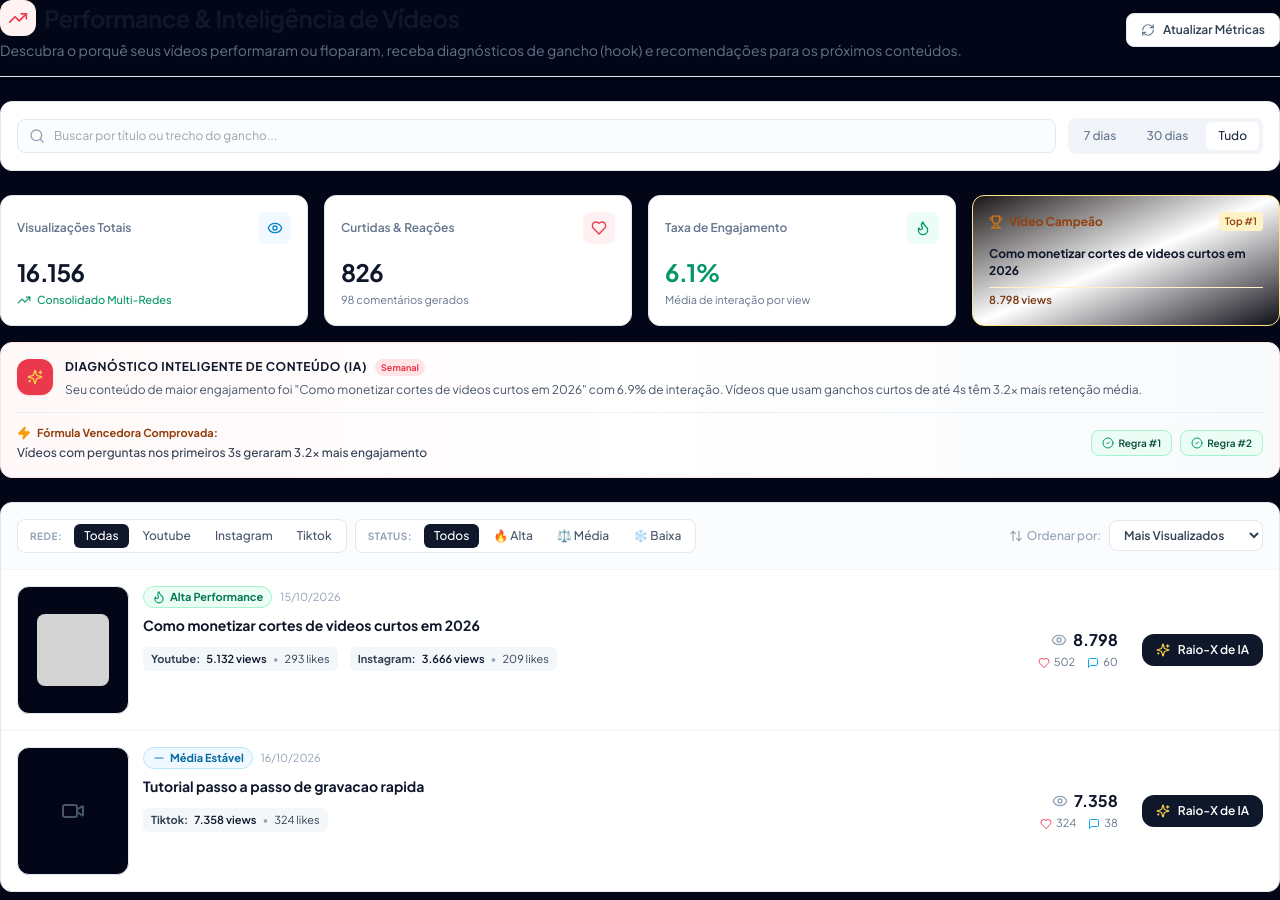
Test: AnalyticsDashboard Component › opens the AI intelligence drawer with hook diagnosis and next recommendations
This screenshot has width=1280, height=900.
# Clica no botao de Raio-X de IA do primeiro video
Click the button with test id "btn-open-diagnosis-1" at (1202, 650), box top-left (1142, 634), bottom-right (1263, 666)
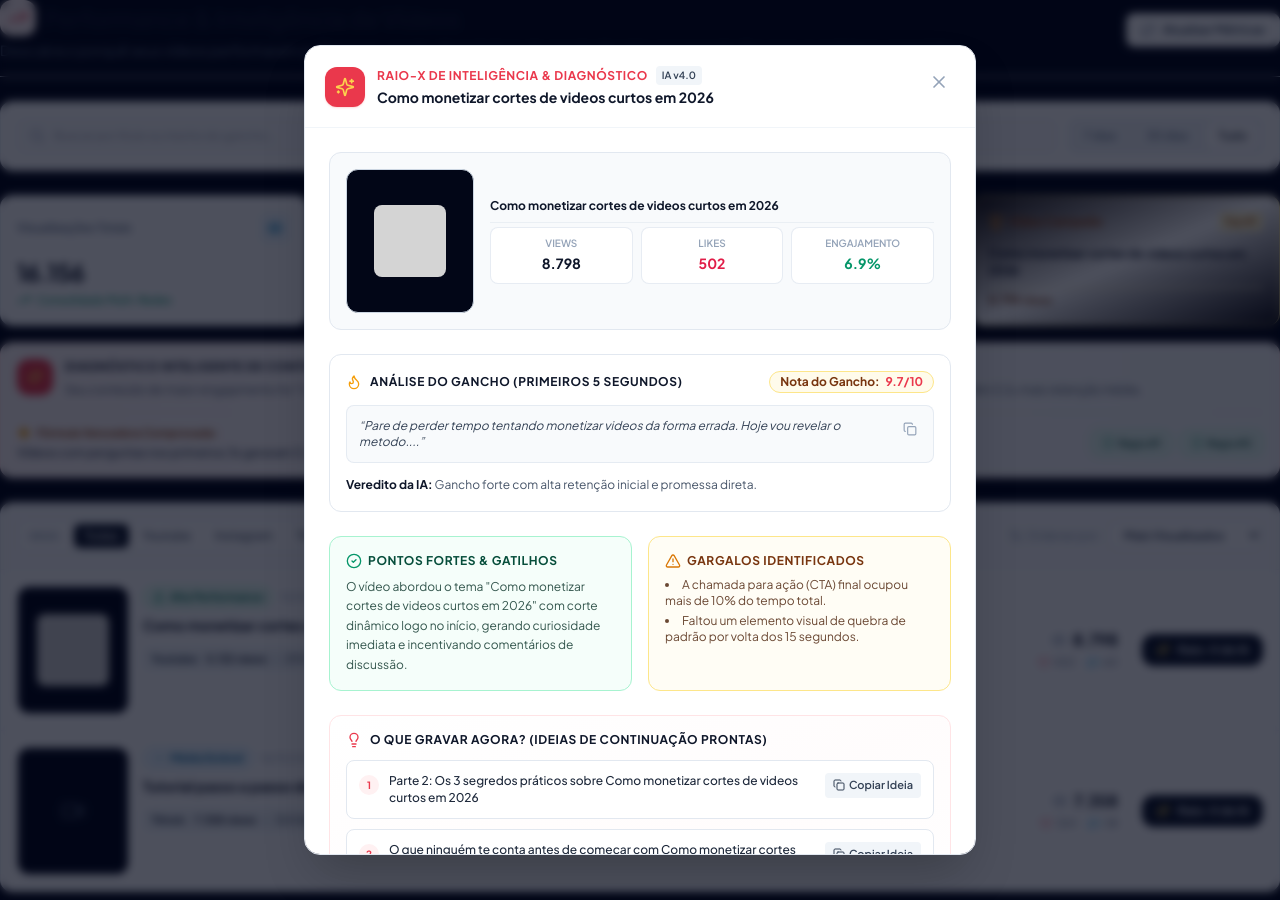
Expected: the element with test id "video-intelligence-drawer" is shown, top-left (304, 45), bottom-right (976, 855)
Expected: the button with test id "btn-copy-idea-0" is shown
Click the button with test id "btn-copy-idea-0" at (873, 785), box top-left (825, 773), bottom-right (921, 798)
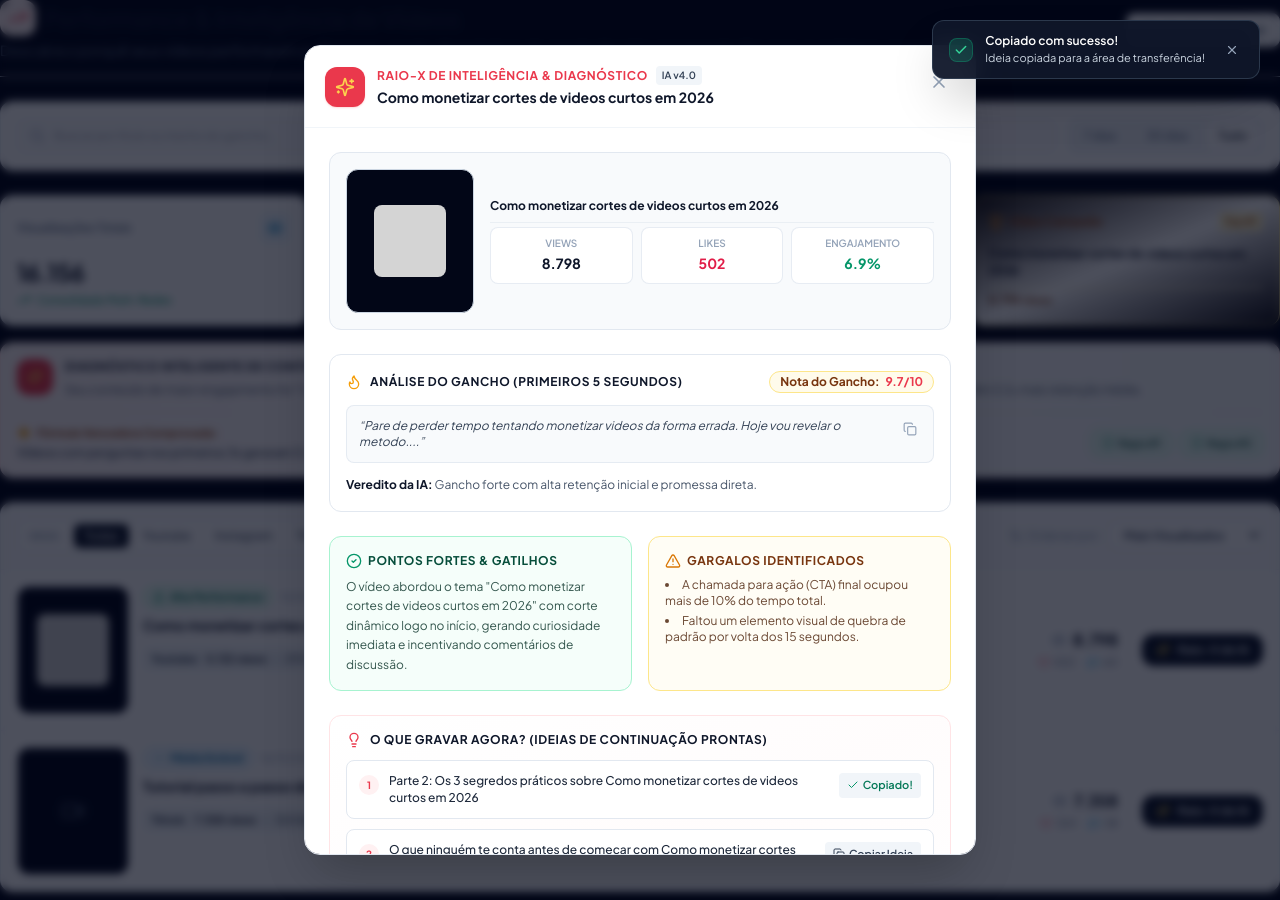
Expected: the element with test id "toast-copy-success" is shown, top-left (932, 20), bottom-right (1260, 79)
Expected: the text "Copiado com sucesso!" is shown, top-left (985, 33), bottom-right (1118, 48)
# Fecha o toast
Click the button with test id "btn-close-toast" at (1232, 50), box top-left (1221, 38), bottom-right (1243, 60)
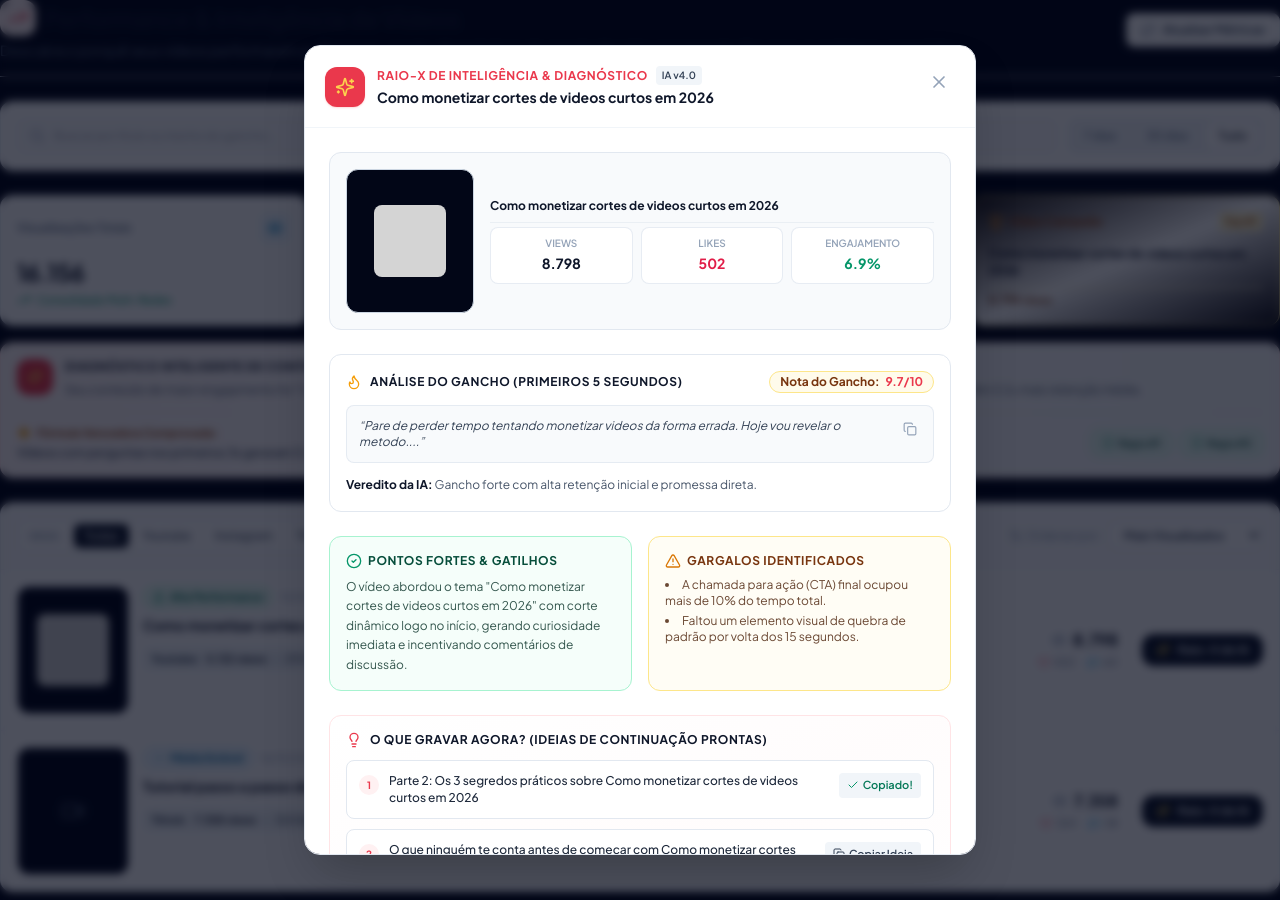
Expected: the element with test id "toast-copy-success" is gone
# Fecha o drawer e valida liberacao do scroll
Click the button with test id "btn-close-intelligence-drawer" at (939, 82), box top-left (923, 66), bottom-right (955, 98)
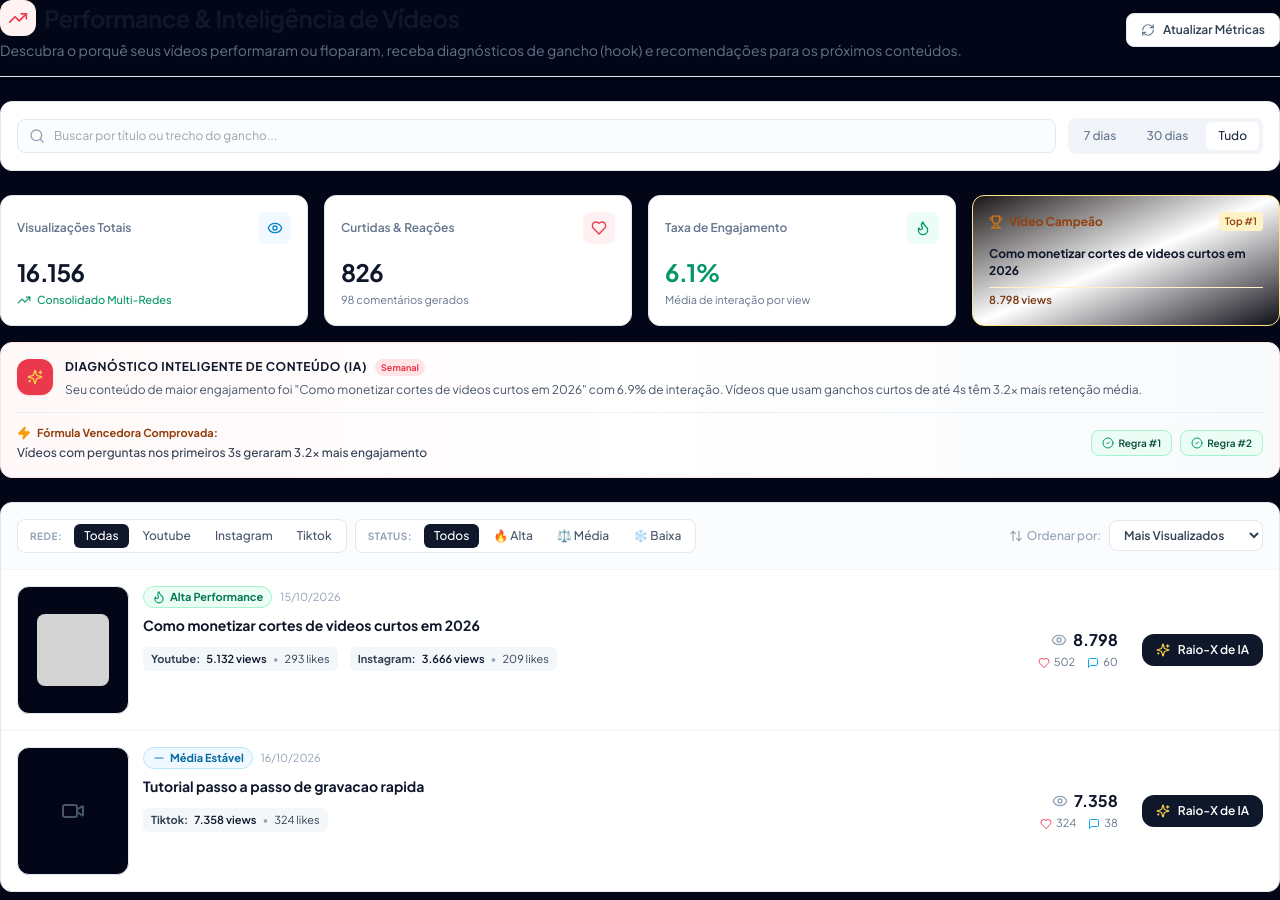
Expected: the element with test id "video-intelligence-drawer" is gone
